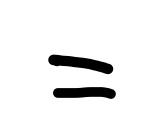eqv: (43, 52, 121, 101)
